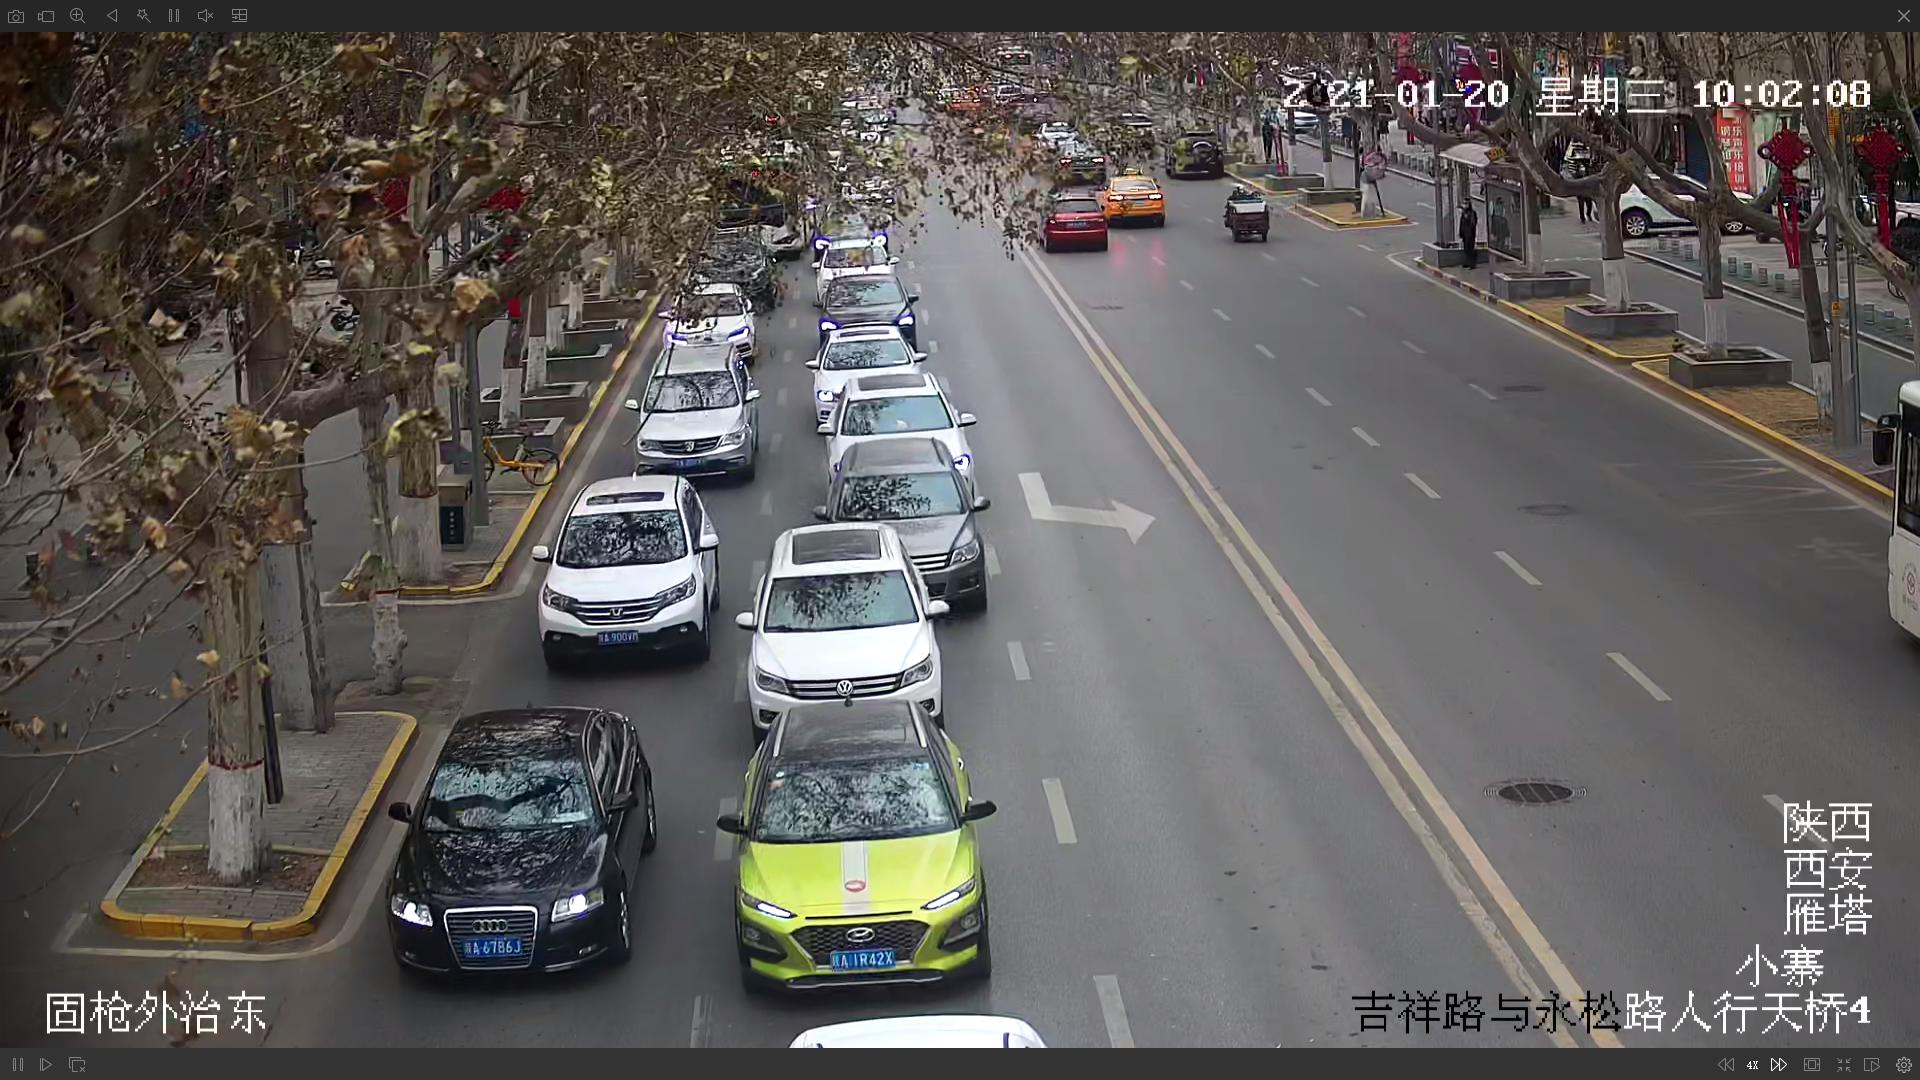black: (392, 709, 650, 975)
grass-green: (717, 705, 996, 982)
white: (735, 521, 945, 713), (531, 473, 713, 669)
